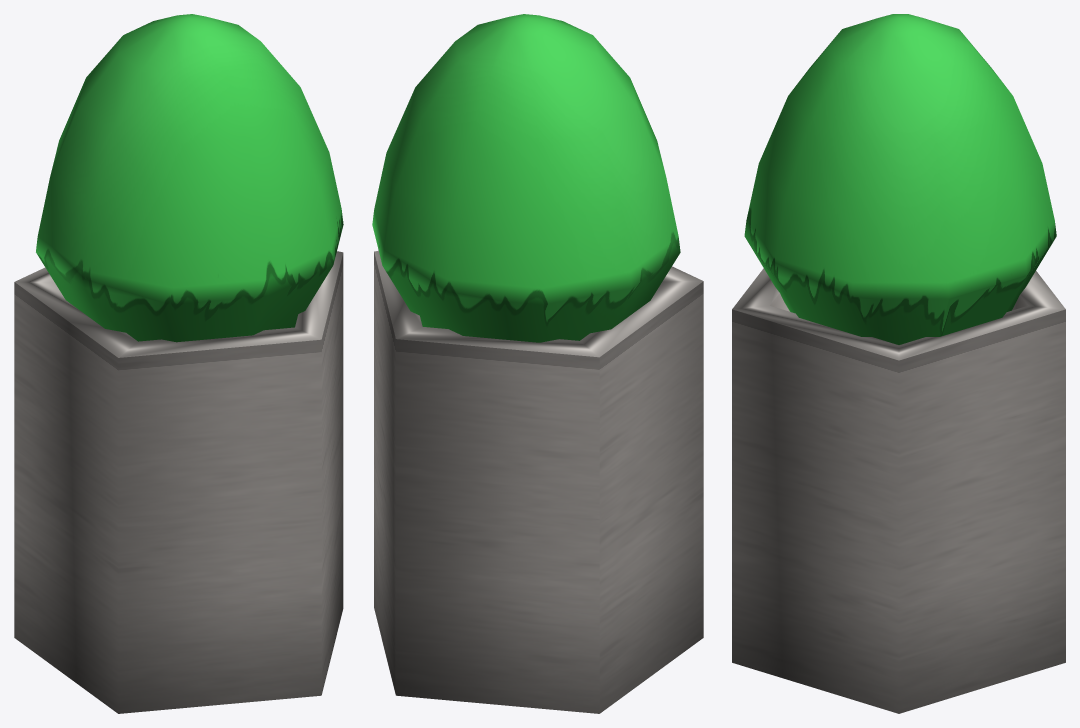
Rendered from french_plant_pot.fbx.
3 renders of one model, left to right at view 1: azimuth 30°, elevation 25°; view 2: azimuth 150°, elevation 25°; view 3: azimuth 270°, elevation 25°, orthographic.
Visible parts, largest first — view 1: french_trees:polySurface3369; view 2: french_trees:polySurface3369; view 3: french_trees:polySurface3369.
Part boxes in pixels (bbox=[...]): french_trees:polySurface3369: bbox=[14, 14, 343, 713]; french_trees:polySurface3369: bbox=[372, 14, 703, 713]; french_trees:polySurface3369: bbox=[732, 14, 1065, 713].
Size of the model in its own units: 0.7634 by 1.62 by 0.7873.
